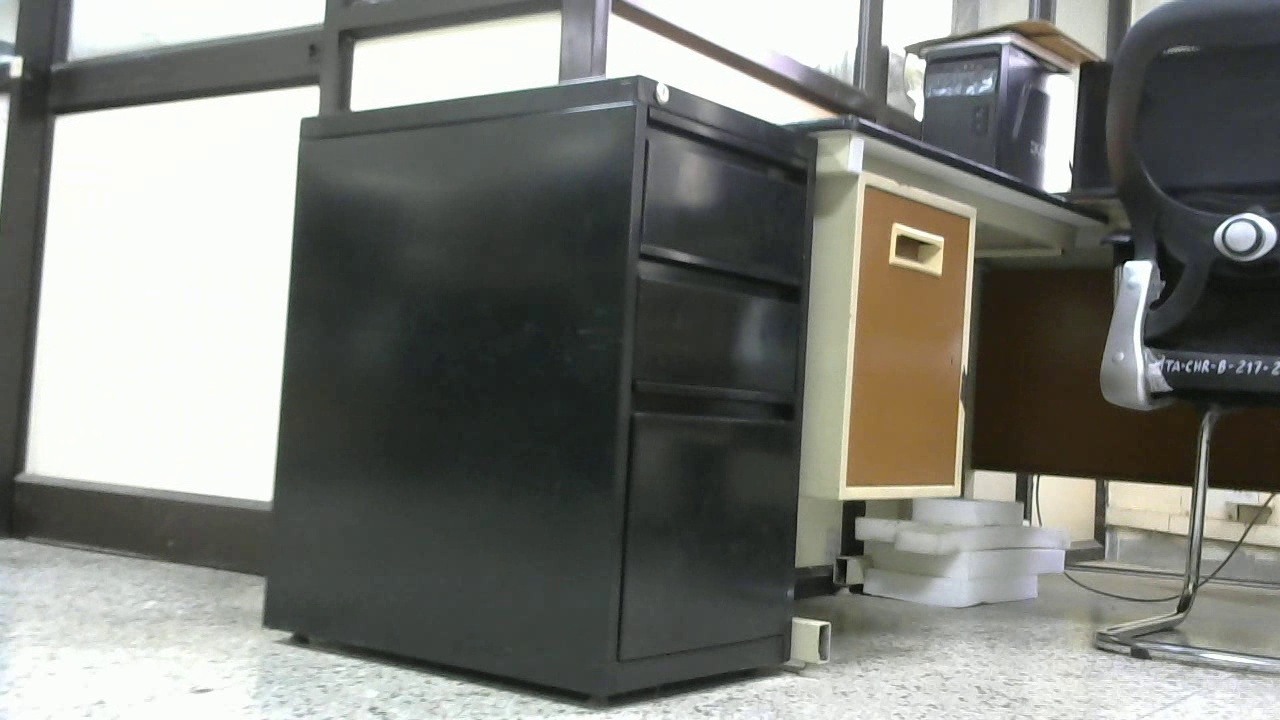chair: (1074, 3, 1280, 678)
